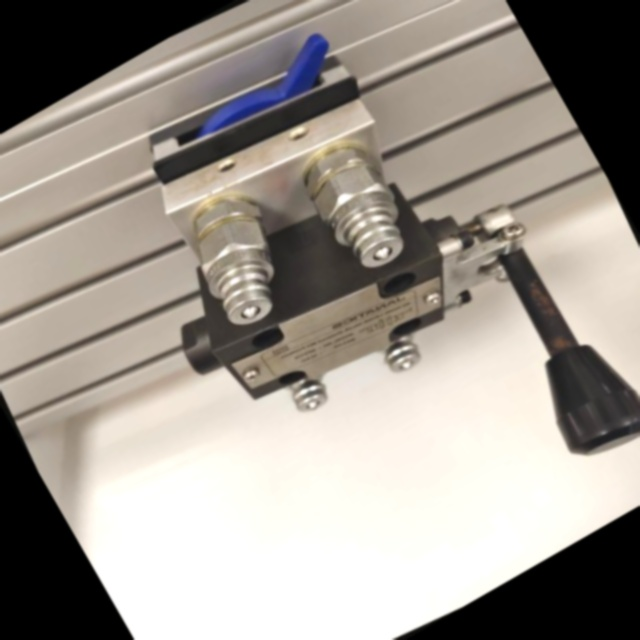4by3 hand lever valve: (39, 0, 640, 634)
